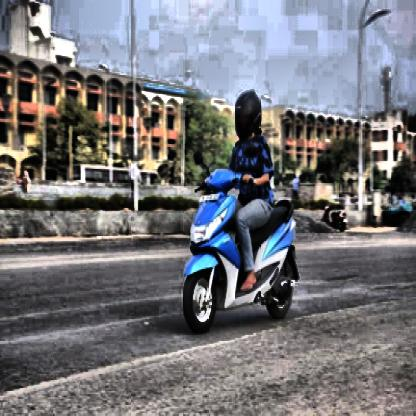wear: (234, 89, 262, 144)
